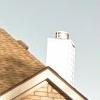Chimney: (41, 24, 81, 84)
